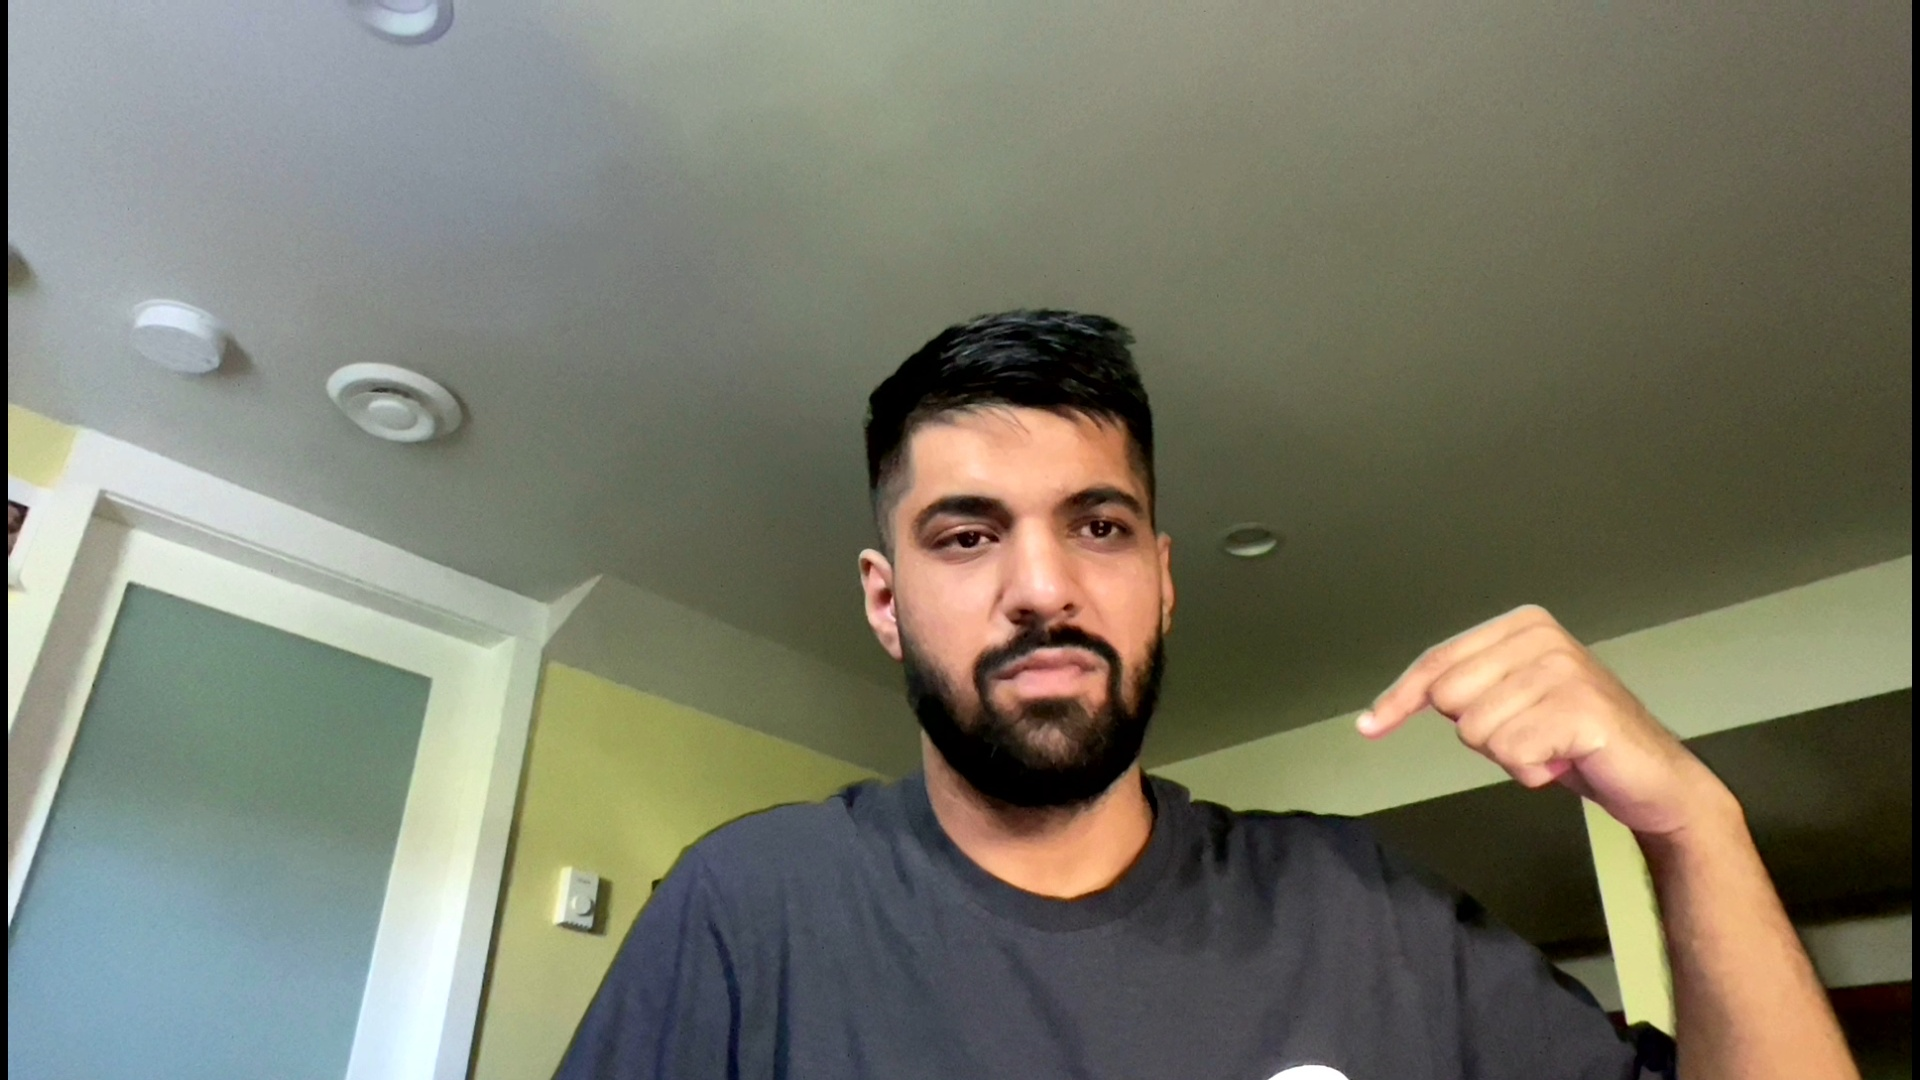Vikrant: (1320, 589, 1774, 840)
